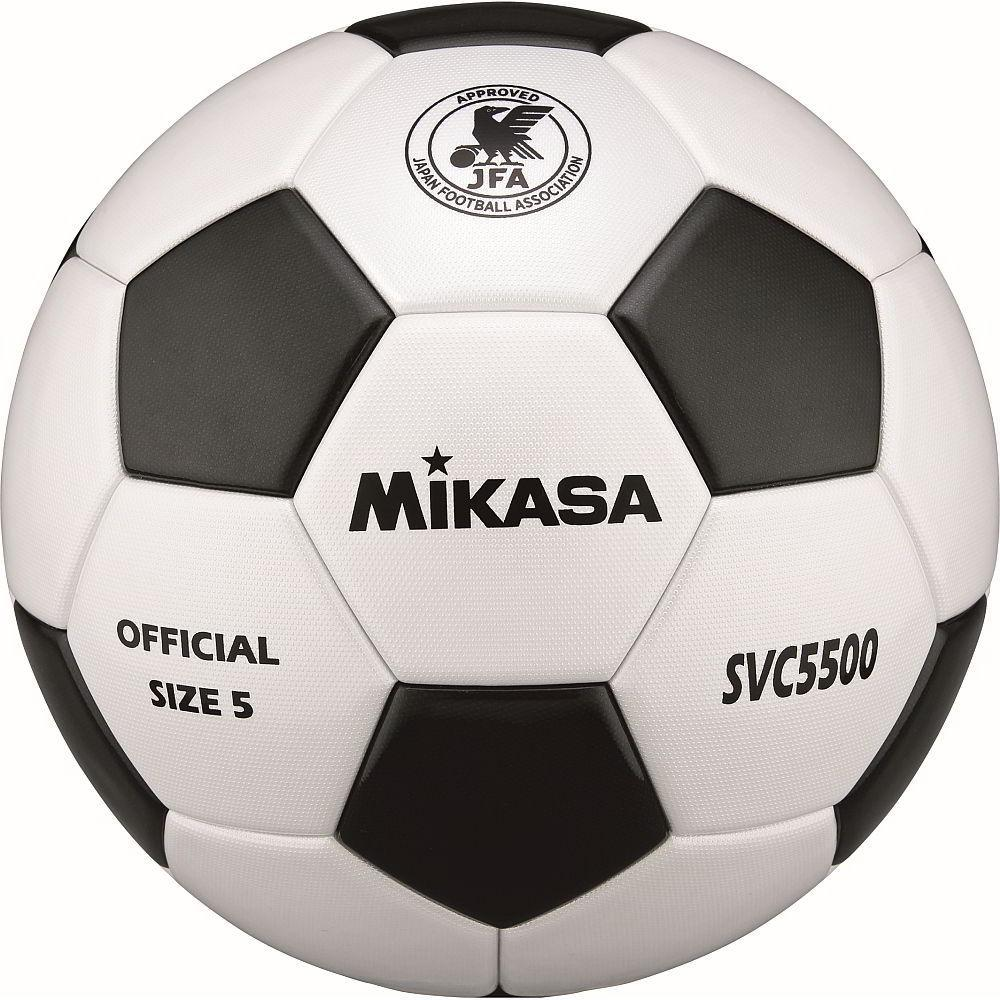Sports-Ball: (7, 17, 976, 973)
